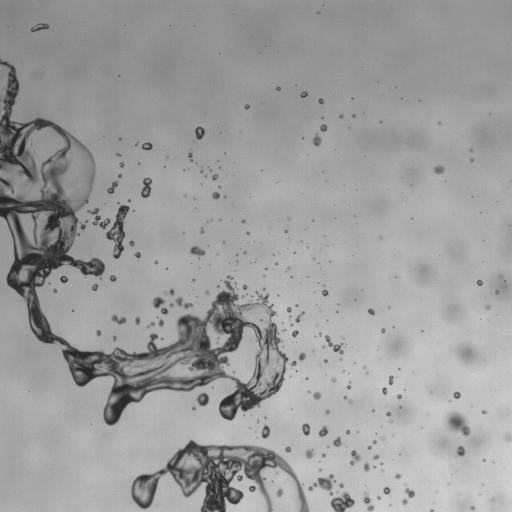droplet: (444, 410, 470, 436), (308, 474, 335, 495), (330, 491, 354, 511), (88, 208, 110, 229), (455, 343, 476, 362), (402, 487, 415, 504), (196, 392, 209, 406), (190, 246, 205, 257), (350, 450, 361, 465), (318, 425, 328, 437), (195, 126, 204, 139), (312, 133, 321, 146), (261, 425, 270, 438), (433, 165, 444, 174), (456, 445, 465, 456), (302, 423, 310, 435), (141, 142, 152, 150), (276, 486, 284, 497), (305, 449, 314, 458), (312, 391, 321, 399), (333, 437, 341, 446), (60, 275, 68, 283), (298, 352, 305, 360), (383, 486, 390, 494), (165, 289, 174, 295), (158, 318, 164, 327), (363, 462, 369, 471), (320, 124, 327, 131), (212, 192, 219, 199), (322, 288, 328, 296), (388, 375, 393, 384), (300, 91, 307, 97), (109, 275, 116, 281), (92, 284, 98, 291), (292, 330, 298, 337), (453, 392, 460, 398), (505, 434, 511, 441), (212, 174, 218, 180), (368, 308, 374, 314), (148, 321, 154, 327), (285, 446, 291, 452), (395, 473, 401, 479), (346, 382, 351, 389), (382, 387, 387, 394), (135, 252, 140, 258), (476, 280, 482, 285), (373, 454, 379, 459), (188, 153, 192, 160), (135, 317, 139, 324), (242, 284, 247, 289), (485, 304, 490, 309), (291, 361, 296, 366), (331, 377, 336, 382), (470, 506, 475, 511), (319, 98, 323, 103), (245, 104, 249, 109), (200, 228, 204, 233), (129, 241, 134, 245), (287, 307, 291, 312), (381, 328, 385, 333), (96, 330, 100, 335), (325, 409, 329, 414), (346, 429, 350, 434), (339, 114, 343, 118), (241, 219, 245, 223), (205, 291, 209, 295), (397, 394, 401, 398), (482, 410, 486, 414), (372, 440, 376, 444), (321, 453, 325, 457), (339, 483, 343, 487), (276, 87, 280, 90), (119, 163, 123, 166), (118, 174, 121, 178), (495, 290, 498, 294), (113, 336, 116, 340), (386, 412, 390, 415), (429, 509, 434, 511), (117, 153, 120, 156), (470, 158, 473, 161), (208, 219, 211, 222), (154, 261, 157, 264), (318, 332, 321, 335), (324, 359, 327, 362), (192, 407, 195, 410), (382, 436, 385, 439), (377, 496, 380, 499), (135, 143, 138, 145), (470, 148, 472, 151), (284, 230, 287, 232), (246, 232, 249, 234), (287, 267, 290, 269), (54, 289, 56, 292), (289, 315, 291, 318), (283, 329, 285, 332), (372, 409, 374, 412), (368, 446, 371, 448), (319, 468, 321, 471), (438, 122, 440, 124), (222, 241, 224, 243), (192, 279, 194, 281), (478, 492, 480, 494)
ligament: (0, 59, 288, 423), (131, 439, 309, 511), (106, 205, 129, 258), (325, 335, 345, 354), (169, 296, 192, 309), (152, 296, 168, 314), (362, 492, 374, 511), (141, 178, 151, 197), (111, 314, 126, 324), (31, 23, 49, 31), (107, 181, 117, 193), (295, 311, 304, 322), (344, 395, 352, 403)
